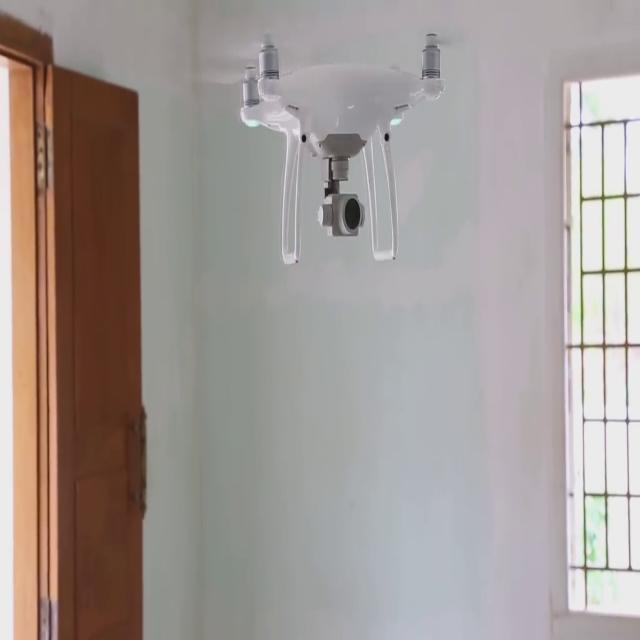drones: (199, 0, 492, 312)
